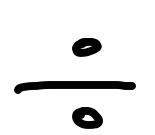div: (14, 38, 136, 129)
